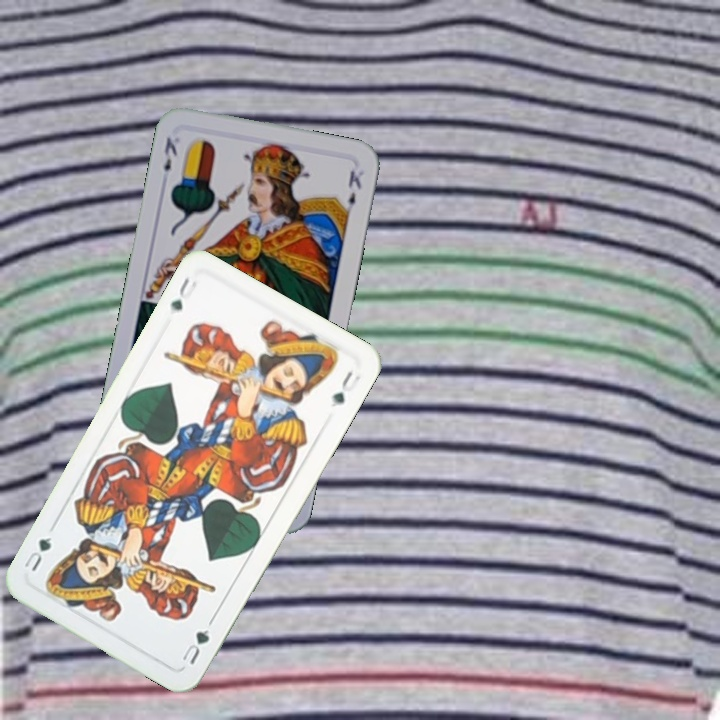EK: (159, 133, 180, 174)
GU: (165, 272, 200, 317), (178, 625, 212, 667)
